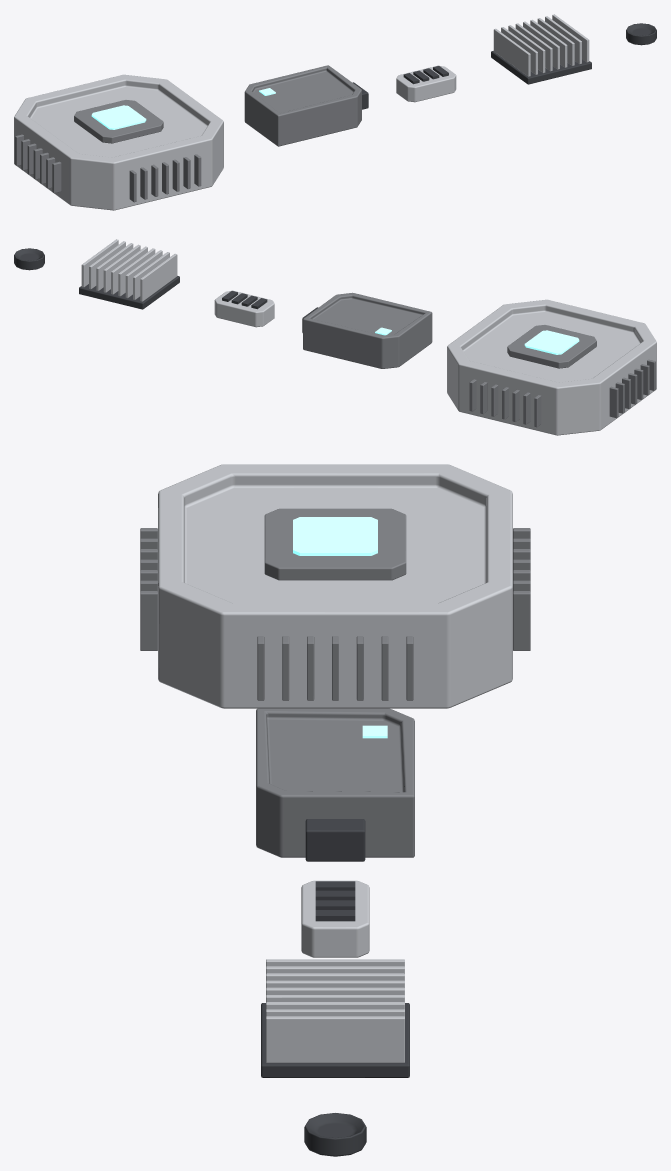
Rendered from kit.glb.
3 views of the same model, one above another, from view 1: azimuth 30°, elevation 25°; view 2: azimuth 150°, elevation 25°; view 3: azimuth 270°, elevation 25° (orthographic). The views are drawn at different scales.
Visible parts, largest first — view 1: Nucleo_base_glb, Modulo_caja_glb, Disipador_aletas_glb, Nucleo_chip_glb, Nucleo_aletas_3_glb, Nucleo_aletas_2_glb, Conector_glb, Disipador_base_glb, Nucleo_luz_glb, Tornillo_glb, Conector_ranuras_glb; view 2: Nucleo_base_glb, Modulo_caja_glb, Disipador_aletas_glb, Nucleo_chip_glb, Nucleo_aletas_1_glb, Nucleo_aletas_2_glb, Conector_glb, Disipador_base_glb, Nucleo_luz_glb, Tornillo_glb, Conector_ranuras_glb; view 3: Nucleo_base_glb, Modulo_caja_glb, Disipador_aletas_glb, Nucleo_chip_glb, Conector_glb, Nucleo_aletas_0_glb, Nucleo_luz_glb, Disipador_base_glb, Modulo_puerto_glb, Tornillo_glb, Nucleo_aletas_1_glb, Nucleo_aletas_3_glb (+1 smaller).
Part boxes in pixels (<box>): Nucleo_base_glb: <box>14,74,223,210</box>; Modulo_caja_glb: <box>244,65,361,146</box>; Disipador_aletas_glb: <box>493,14,589,76</box>; Nucleo_chip_glb: <box>74,100,163,143</box>; Nucleo_aletas_3_glb: <box>129,154,201,202</box>; Nucleo_aletas_2_glb: <box>15,134,61,193</box>; Conector_glb: <box>396,65,456,102</box>; Disipador_base_glb: <box>491,51,591,84</box>; Nucleo_luz_glb: <box>91,105,146,129</box>; Tornillo_glb: <box>626,23,656,45</box>; Conector_ranuras_glb: <box>403,66,448,84</box>; Nucleo_base_glb: <box>447,299,656,435</box>; Modulo_caja_glb: <box>303,292,432,368</box>; Disipador_aletas_glb: <box>81,239,177,301</box>; Nucleo_chip_glb: <box>507,325,596,368</box>; Nucleo_aletas_1_glb: <box>469,379,541,427</box>; Nucleo_aletas_2_glb: <box>609,359,655,418</box>; Conector_glb: <box>214,290,274,327</box>; Disipador_base_glb: <box>79,276,179,309</box>; Nucleo_luz_glb: <box>524,330,579,354</box>; Tornillo_glb: <box>14,248,44,270</box>; Conector_ranuras_glb: <box>222,291,267,309</box>; Nucleo_base_glb: <box>158,464,512,708</box>; Modulo_caja_glb: <box>256,708,414,857</box>; Disipador_aletas_glb: <box>266,959,404,1062</box>; Nucleo_chip_glb: <box>264,508,406,580</box>; Conector_glb: <box>301,880,369,957</box>; Nucleo_aletas_0_glb: <box>257,636,413,700</box>; Nucleo_luz_glb: <box>293,517,377,555</box>; Disipador_base_glb: <box>261,1003,409,1077</box>; Modulo_puerto_glb: <box>305,819,365,861</box>; Tornillo_glb: <box>304,1113,366,1156</box>; Nucleo_aletas_1_glb: <box>513,528,530,650</box>; Nucleo_aletas_3_glb: <box>140,528,157,650</box>.
Bounding box in the file's own units: 4.04 × 0.31 × 1.1.
